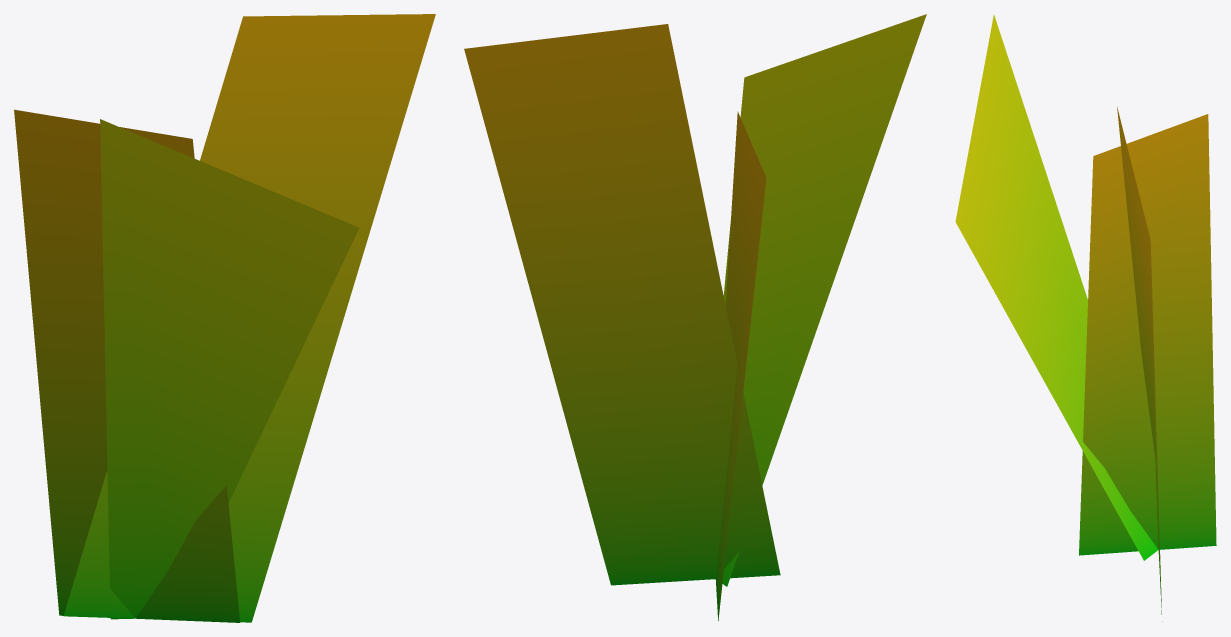
The model's file is Var5_LOD2.fbx.
The picture shows the model from 3 angles, left to right: view 1: azimuth 30°, elevation 25°; view 2: azimuth 150°, elevation 25°; view 3: azimuth 270°, elevation 25°; orthographic projection. The views are drawn at different scales.
Visible parts, largest first — view 1: _55b7_Var5_LOD2; view 2: _55b7_Var5_LOD2; view 3: _55b7_Var5_LOD2.
Boxes of the visible parts, left/top/right/bottom form: _55b7_Var5_LOD2: left=14, top=14, right=435, bottom=622; _55b7_Var5_LOD2: left=464, top=14, right=926, bottom=620; _55b7_Var5_LOD2: left=955, top=15, right=1216, bottom=621.
Size of the model in its own units: 21.92 by 31.04 by 14.42.
